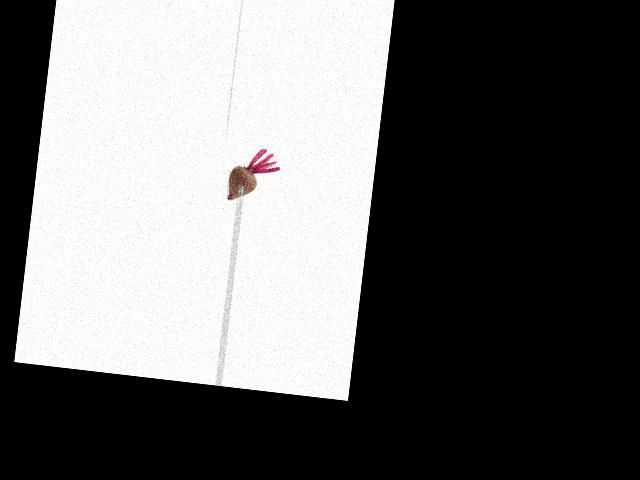beet: (226, 145, 282, 206)
